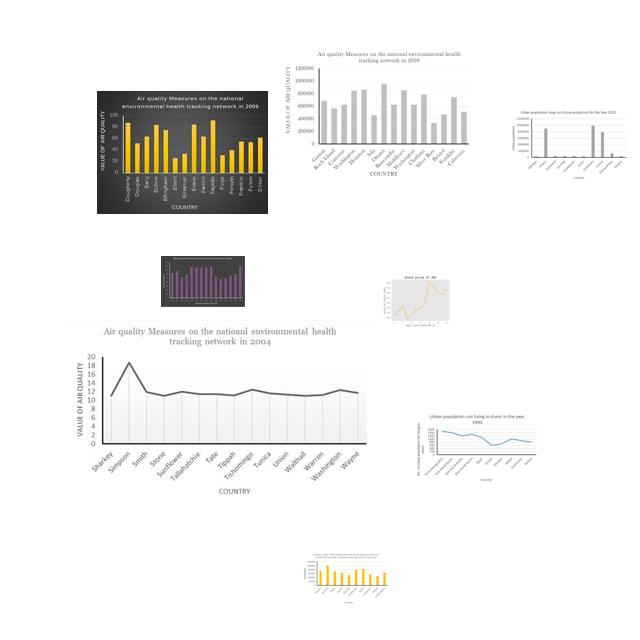Graph: (67, 320, 374, 500), (283, 47, 471, 180), (97, 91, 268, 214), (415, 411, 541, 489), (509, 108, 628, 181), (302, 552, 390, 605), (161, 256, 245, 307), (382, 272, 457, 328)
